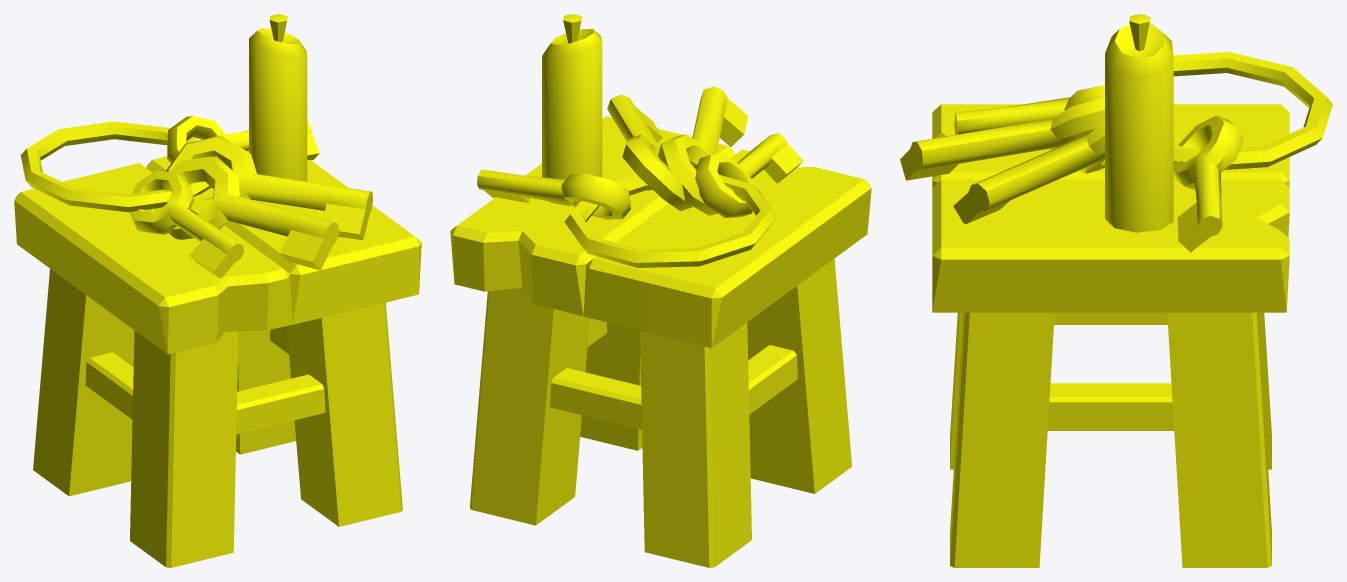
The model's file is kaykit-table-small-decorated-a.glb.
The picture shows the model from 3 angles, left to right: view 1: azimuth 30°, elevation 25°; view 2: azimuth 150°, elevation 25°; view 3: azimuth 270°, elevation 25°; orthographic projection. The views are drawn at different scales.
Visible parts, largest first — view 1: table_small_decorated_A; view 2: table_small_decorated_A; view 3: table_small_decorated_A.
Part boxes in pixels (x1,y1,x2,y2): table_small_decorated_A: [14, 14, 421, 567]; table_small_decorated_A: [450, 14, 871, 567]; table_small_decorated_A: [900, 14, 1332, 567].
Size of the model in its own units: 1.04 by 1.62 by 1.21.
